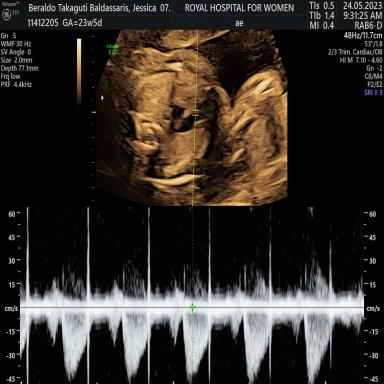Ultrasound-Waves: (22, 209, 360, 380)
